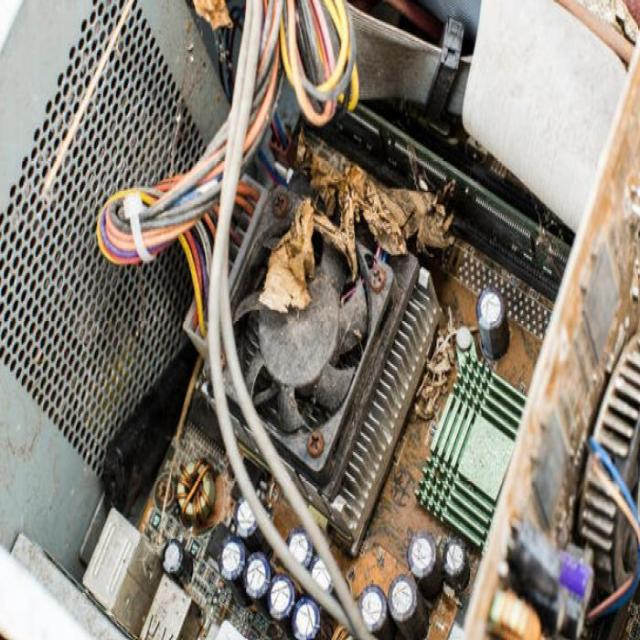electronic: (92, 21, 554, 574)
